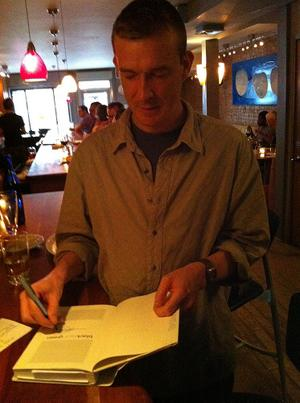person: (21, 2, 270, 398)
